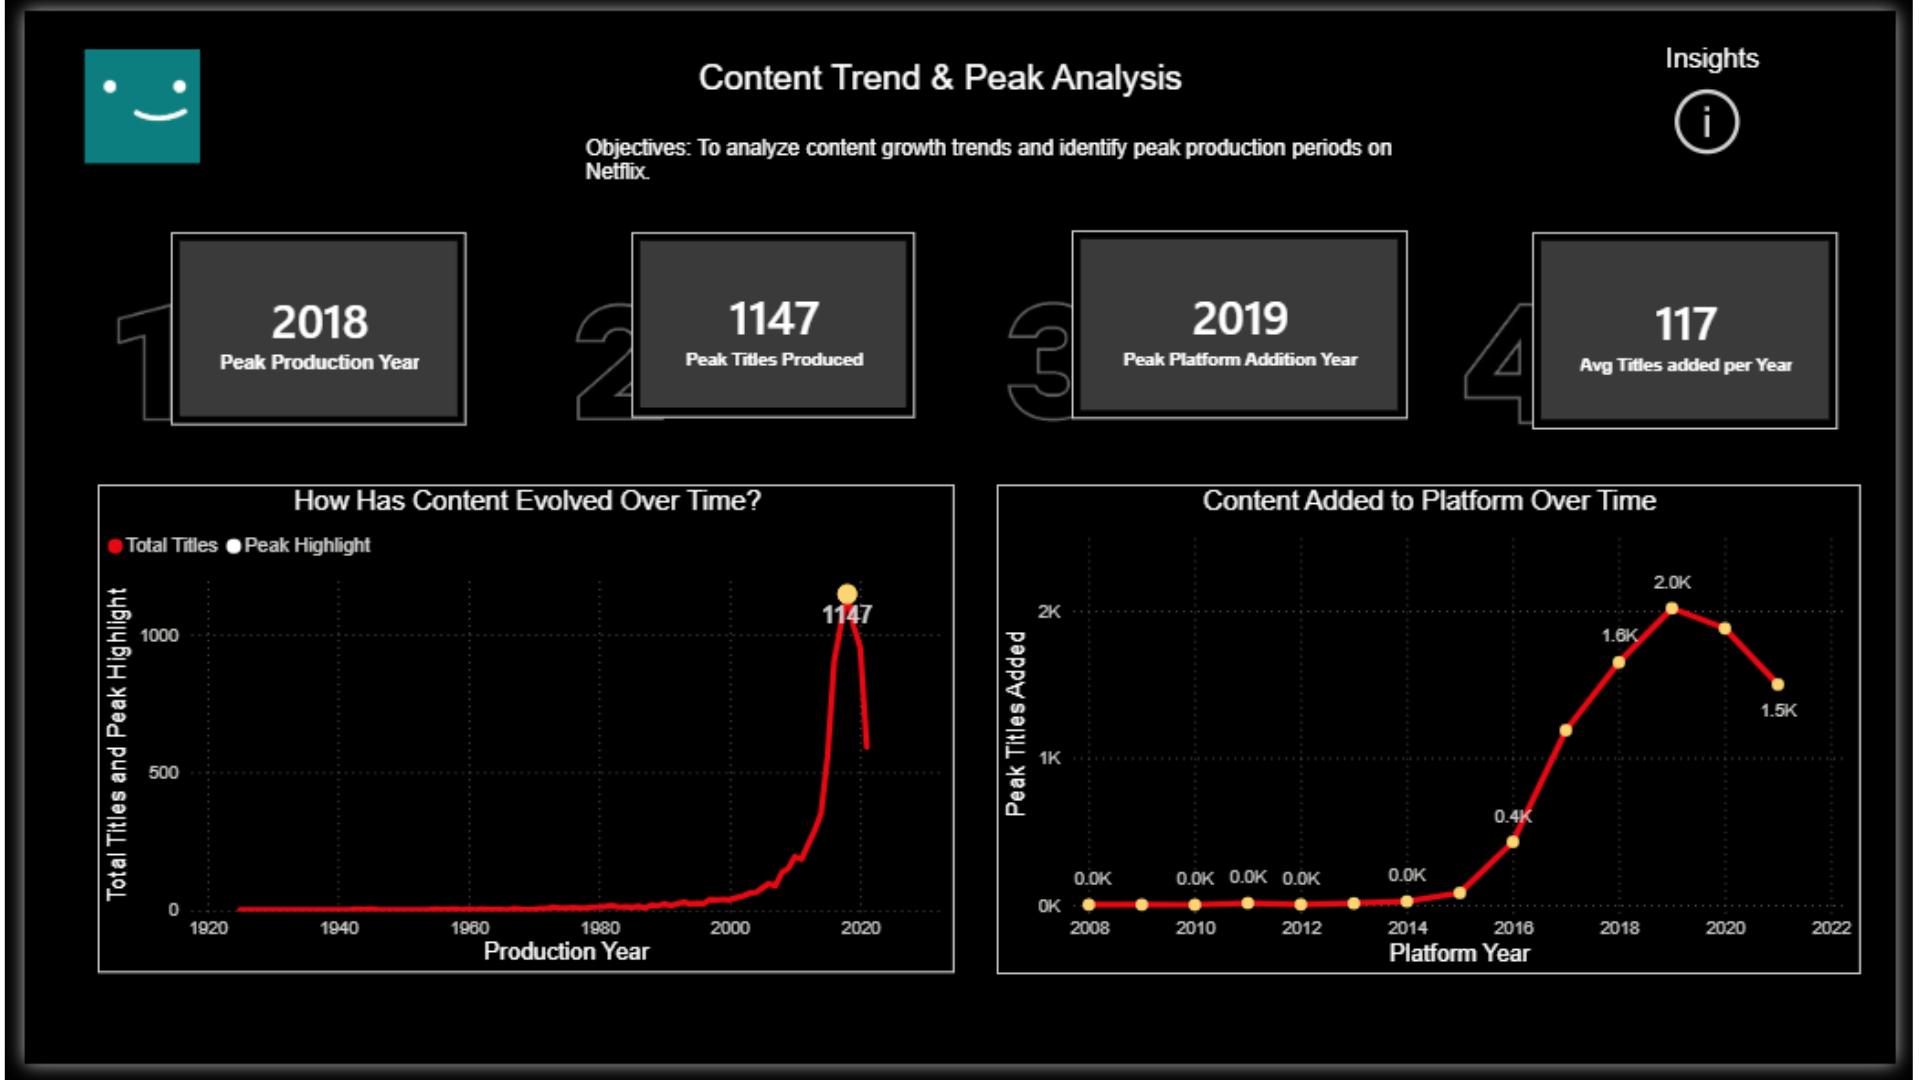

The page's visual inventory and layout, read from the dashboard file:
{"tool":"powerbi","page":{"name":"Content Trend & Peak Analysis","canvas":[1280,720],"ordinal":3},"visuals":[{"type":"image","box":[39.9,26.2,81.2,78.5],"z":0},{"type":"image","box":[31.5,160.5,110.1,162.8],"z":500,"group":"g1"},{"type":"textbox","box":[456.2,25.7,367.6,60.1],"z":1000},{"type":"cardVisual","fields":{"Data":["Country Strategy.Peak Year"]},"box":[100.8,151.9,202.3,132.1],"z":1000,"group":"g1"},{"type":"image","box":[352.2,158.8,110.1,163.8],"z":1500,"group":"g1"},{"type":"textbox","box":[379,81.5,593.5,44.3],"z":2000},{"type":"cardVisual","fields":{"Data":["Country Strategy.Peak Title"]},"box":[415.5,151.4,194.1,126.6],"z":2000,"group":"g1"},{"type":"group","id":"g1","title":"Group 1","box":[31.5,150.2,1209.8,181.4],"z":3000},{"type":"image","box":[649.5,158.5,110.1,162.4],"z":3500,"group":"g1"},{"type":"cardVisual","fields":{"Data":["Content Trend measures.Peak Platform Addition Year"]},"box":[716.9,150.2,229.8,129.4],"z":4000,"group":"g1"},{"type":"lineChart","title":"How Has Content Evolved Over Time?","fields":{"Category":["netflix titles.release_year"],"Y":["Home Measures.Total Titles","Country Strategy.Peak Highlight"]},"box":[49.5,323.4,586.3,334.5],"z":4000},{"type":"image","box":[961.1,151.1,115.8,180.5],"z":5000,"group":"g1"},{"type":"lineChart","title":"Content Added to Platform Over Time","fields":{"Category":["netflix titles.Year Added"],"Y":["Country Strategy.Peak Titles Added"]},"box":[665,323.2,590.7,334.7],"z":5000},{"type":"actionButton","title":"Insights","box":[1122.7,21.5,67.2,82.9],"z":6000},{"type":"cardVisual","fields":{"Data":["Country Strategy.Avg Titles per Year"]},"box":[1032.1,151.6,209.2,134.9],"z":6000,"group":"g1"}]}

Visuals, with their boxes in screenshot pixels (x1, y1, x2, y2), scaled from the page's 1280x720 canvas onto the 1920x1080 screenshot:
image: [x1=60, y1=39, x2=182, y2=157]
image: [x1=47, y1=241, x2=212, y2=485]
textbox: [x1=684, y1=39, x2=1236, y2=129]
cardVisual - Country Strategy.Peak Year: [x1=151, y1=228, x2=455, y2=426]
image: [x1=528, y1=238, x2=693, y2=484]
textbox: [x1=568, y1=122, x2=1459, y2=189]
cardVisual - Country Strategy.Peak Title: [x1=623, y1=227, x2=914, y2=417]
"Group 1" group: [x1=47, y1=225, x2=1862, y2=497]
image: [x1=974, y1=238, x2=1139, y2=481]
cardVisual - Content Trend measures.Peak Platform Addition Year: [x1=1075, y1=225, x2=1420, y2=419]
"How Has Content Evolved Over Time?" lineChart: [x1=74, y1=485, x2=954, y2=987]
image: [x1=1442, y1=227, x2=1615, y2=497]
"Content Added to Platform Over Time" lineChart: [x1=998, y1=485, x2=1884, y2=987]
"Insights" actionButton: [x1=1684, y1=32, x2=1785, y2=157]
cardVisual - Country Strategy.Avg Titles per Year: [x1=1548, y1=227, x2=1862, y2=430]
